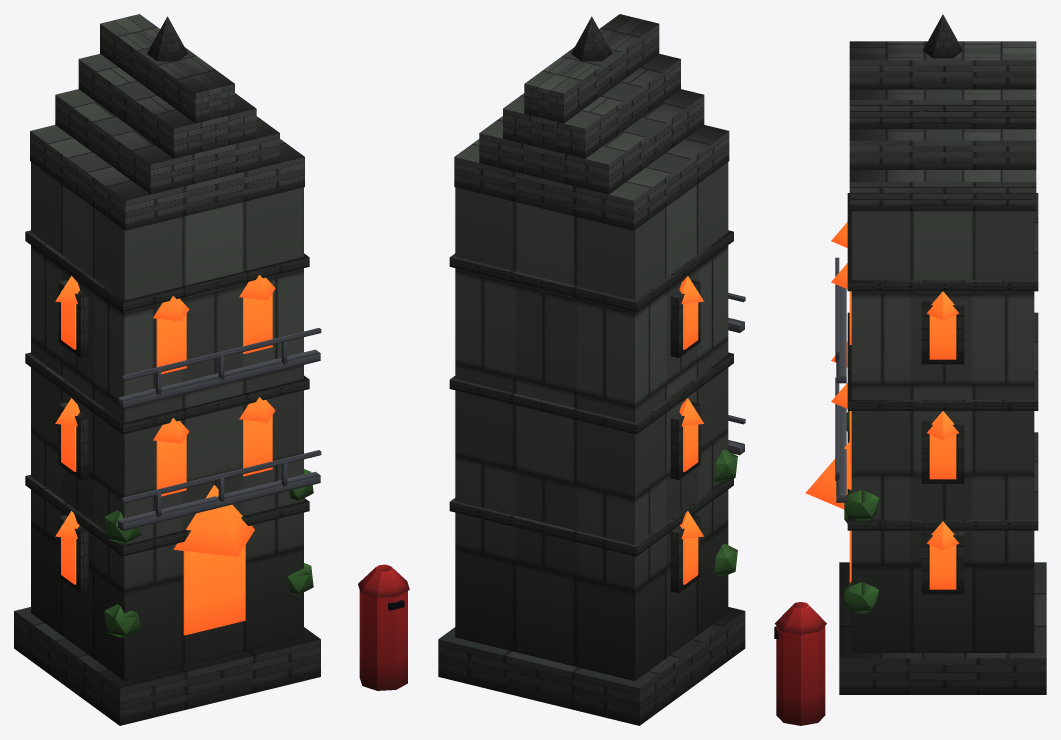
File: rowhouse.fbx
The picture shows the model from 3 angles, left to right: view 1: azimuth 30°, elevation 25°; view 2: azimuth 150°, elevation 25°; view 3: azimuth 270°, elevation 25°; orthographic projection. The views are drawn at different scales.
Parts seen in each view (by area): view 1: rowhouse; view 2: rowhouse; view 3: rowhouse.
Part boxes in pixels (box(x1,y1,x2,y2)): rowhouse: box(14, 14, 409, 725); rowhouse: box(438, 14, 745, 725); rowhouse: box(774, 14, 1046, 725).
Size of the model in its own units: 156 by 344 by 134.
Materials: 1 (1 with a texture image).
